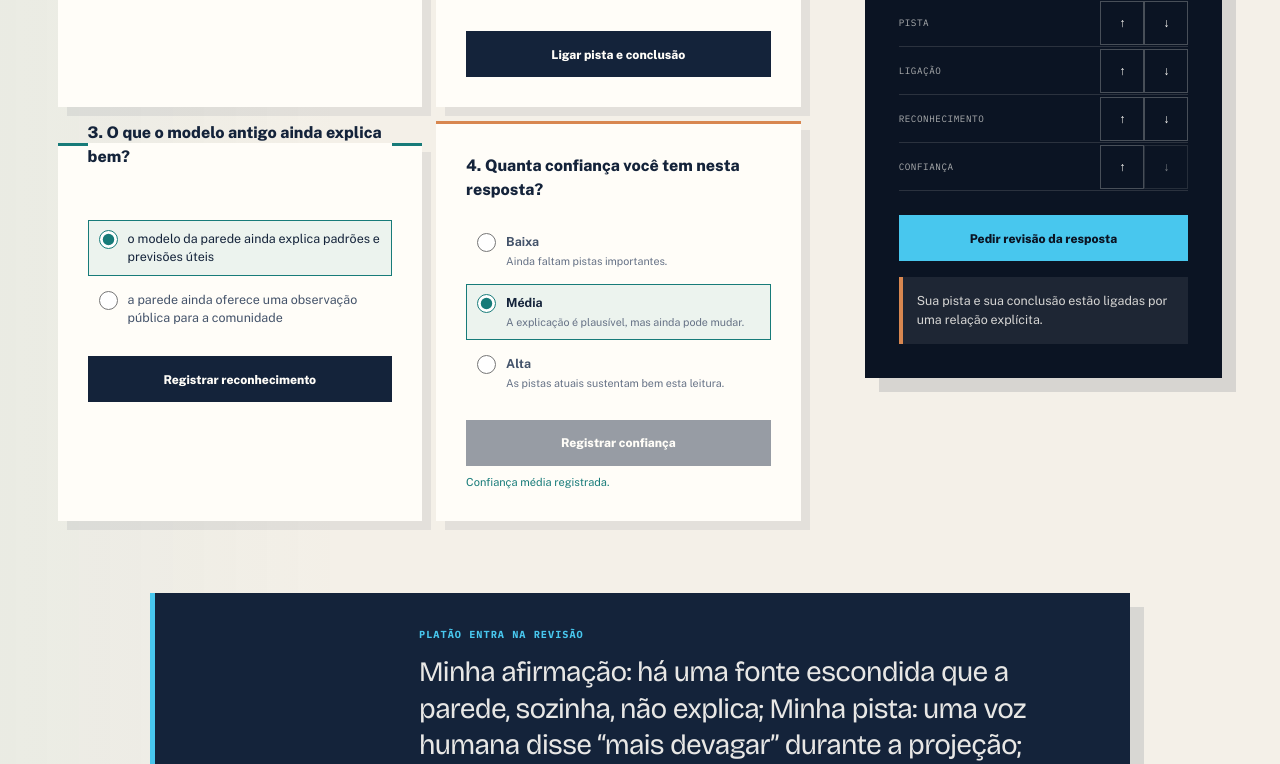
it: revokes the defend Continue gate after confidence change then revert until review succeeds again
(page scrolled)
Click the radio button labelled "Alta": (487, 364) [477,355,496,374]
(page scrolled)
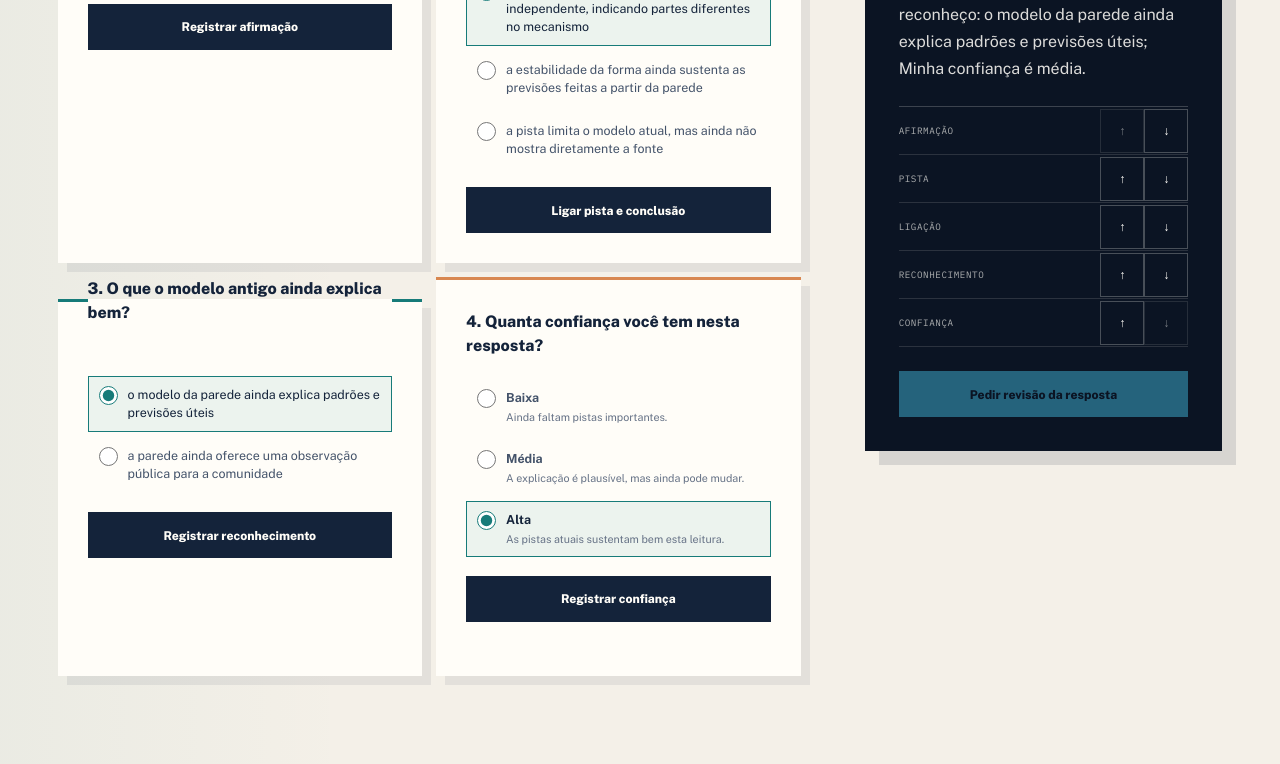
Click the radio button labelled "Média": (487, 459) [477,450,496,469]
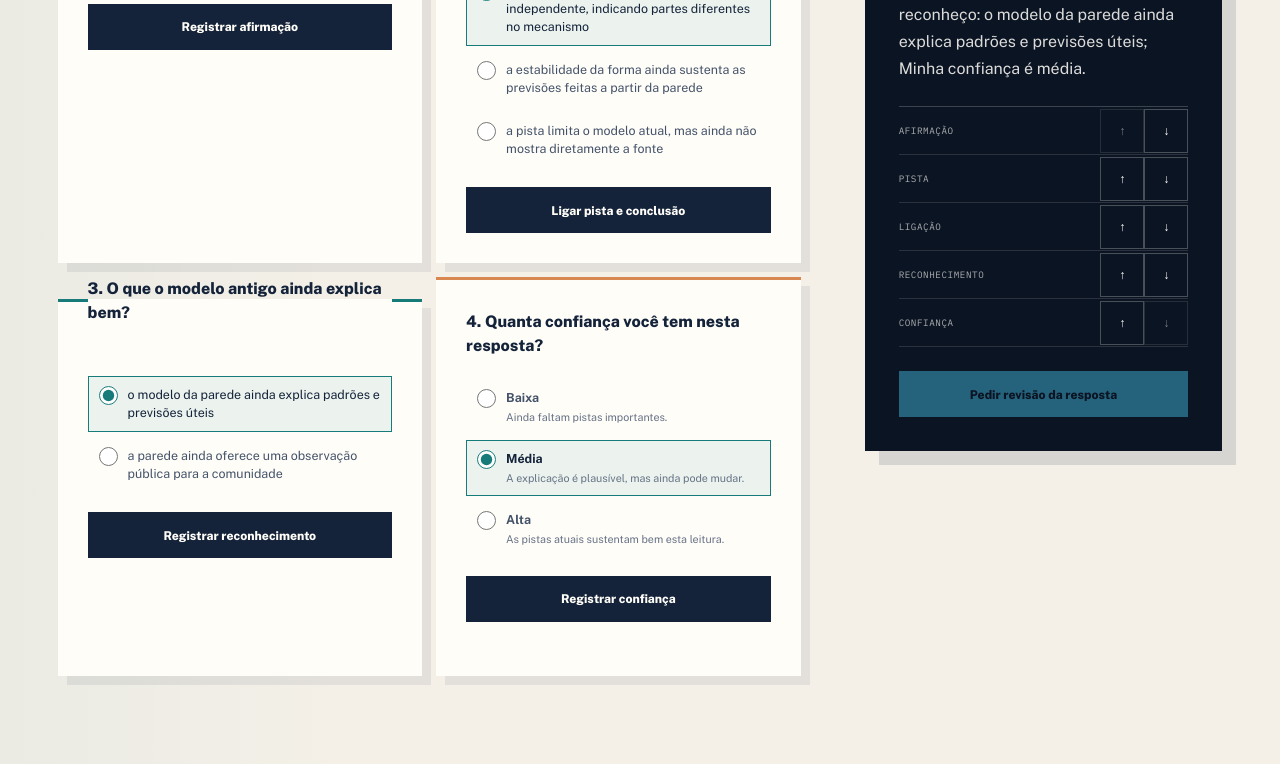
Expected: the button "Rever minha primeira hipótese" is not shown
Click the button "Registrar confiança": (618, 599) [466,576,771,622]
(page scrolled)
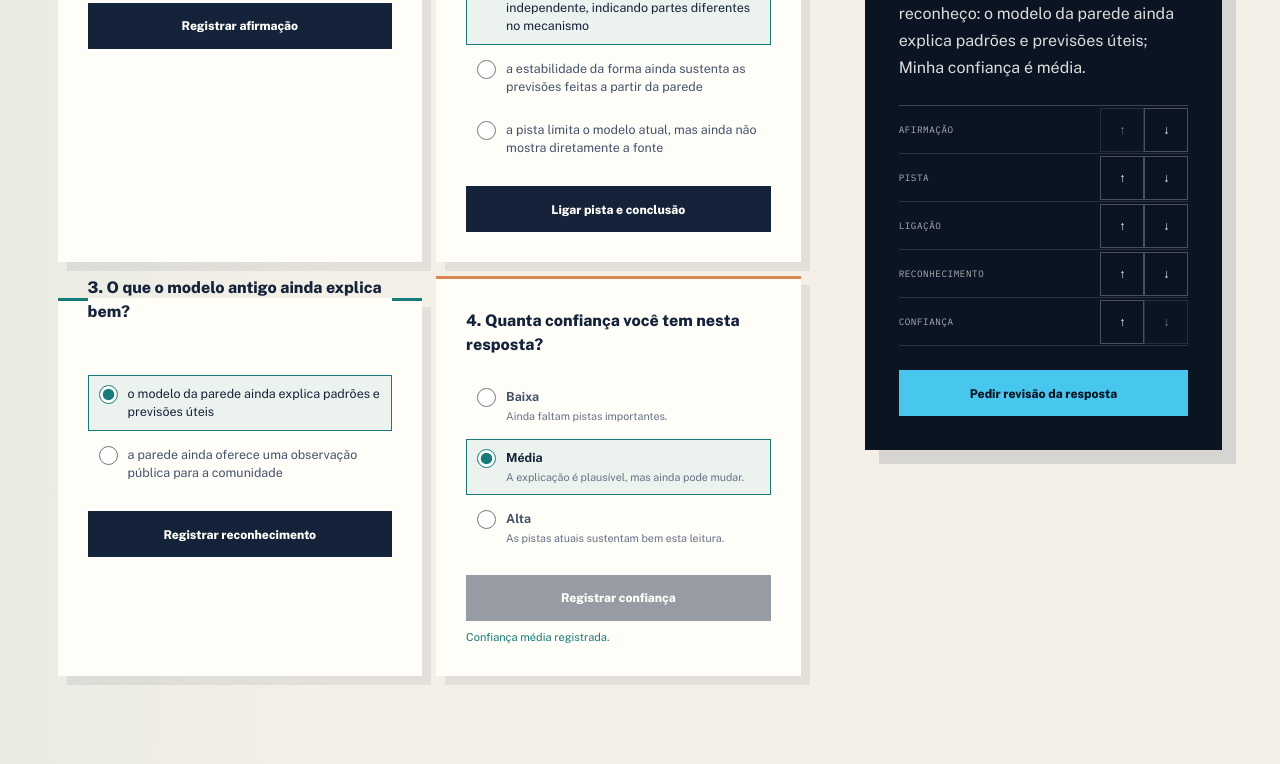
Click the button "Pedir revisão da resposta": (1044, 393) [899,370,1188,416]
(page scrolled)
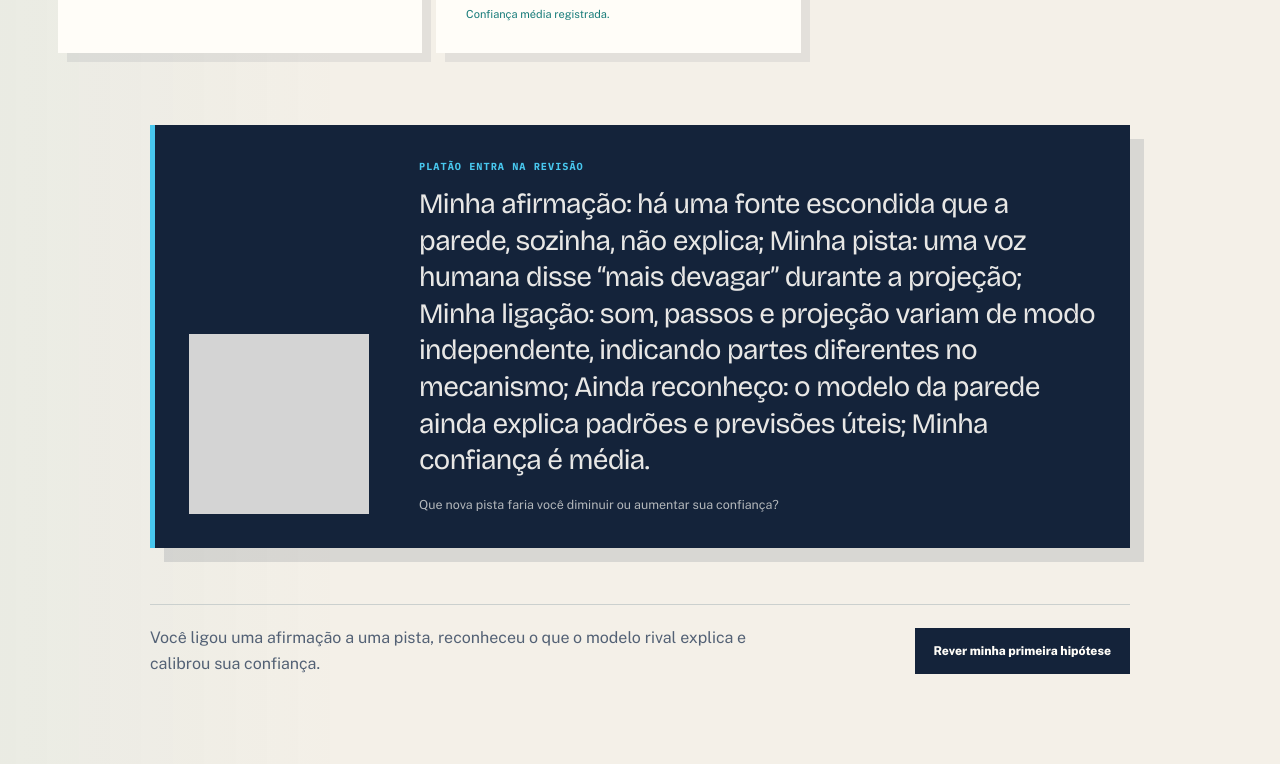
Result: the button "Rever minha primeira hipótese" is shown at [914,628,1130,674]
